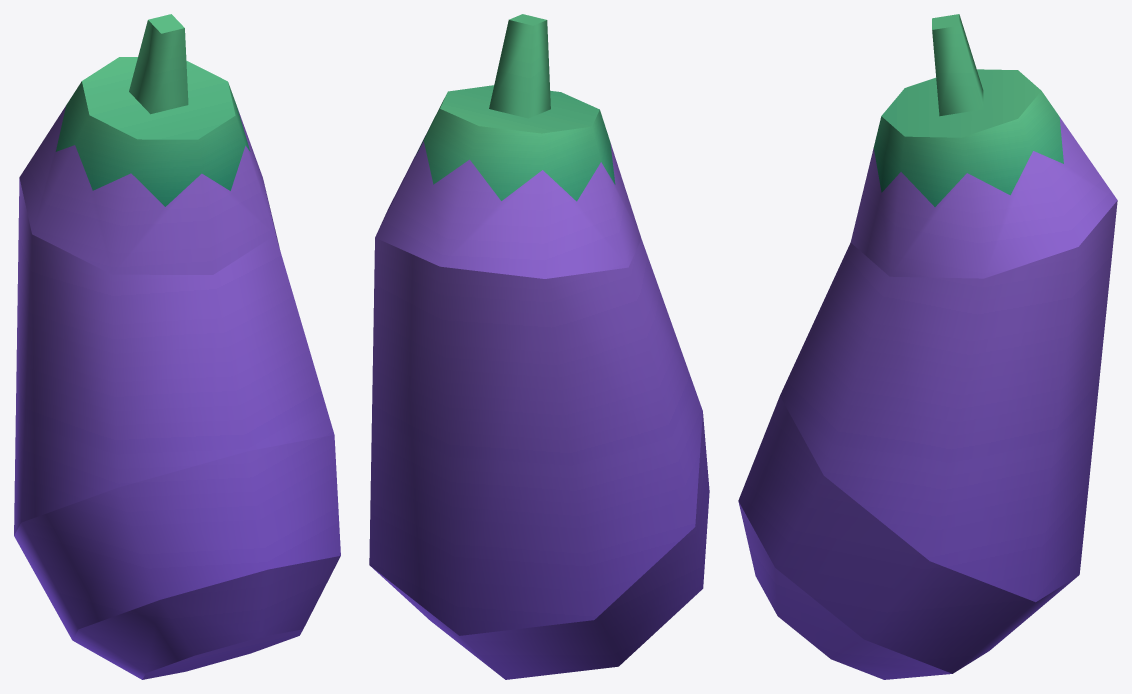
The model's file is aubergine-harvest.glb.
3 renders of one model, left to right at view 1: azimuth 30°, elevation 25°; view 2: azimuth 150°, elevation 25°; view 3: azimuth 270°, elevation 25°, orthographic. The views are drawn at different scales.
Visible parts, largest first — view 1: eggplant; view 2: eggplant; view 3: eggplant.
Part boxes in pixels (left/top/right/bottom): eggplant: left=14, top=14, right=340, bottom=679; eggplant: left=369, top=14, right=709, bottom=679; eggplant: left=738, top=14, right=1117, bottom=679.
Bounding box in the file's own units: 0.5036 × 1 × 0.5319.
Materials: 1 (1 with a texture image).
